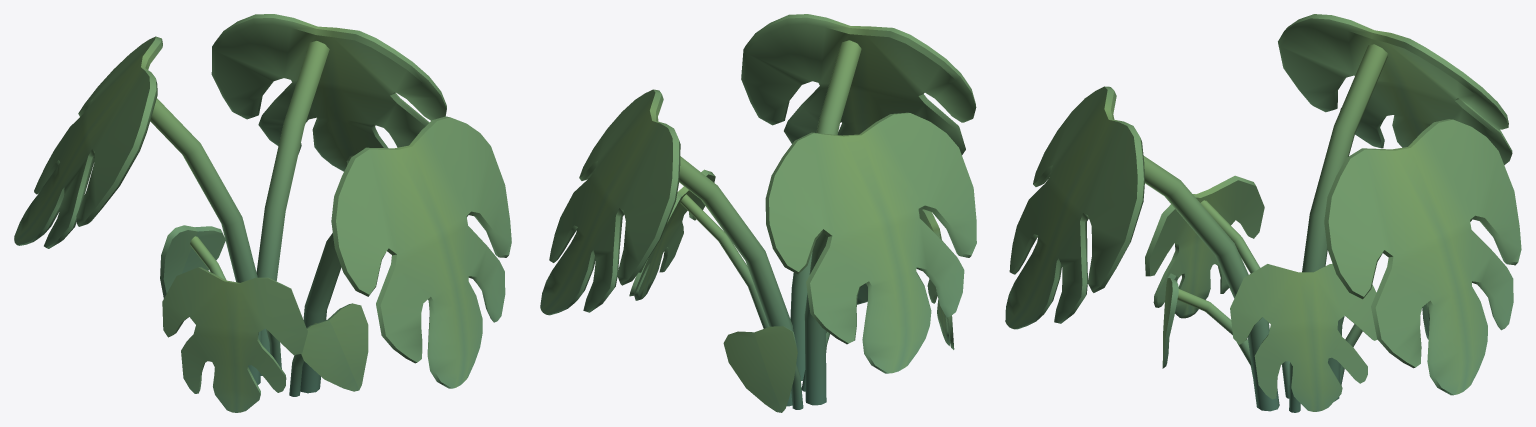
The model's file is monstera-plant.glb.
The picture shows the model from 3 angles, left to right: view 1: azimuth 30°, elevation 25°; view 2: azimuth 150°, elevation 25°; view 3: azimuth 270°, elevation 25°; orthographic projection. The views are drawn at different scales.
Visible parts, largest first — view 1: monstera_plant_medium; view 2: monstera_plant_medium; view 3: monstera_plant_medium.
Boxes of the visible parts, <box> form: monstera_plant_medium: <box>14,14,511,412</box>; monstera_plant_medium: <box>540,14,976,412</box>; monstera_plant_medium: <box>1005,14,1521,412</box>.
Bounding box in the file's own units: 2.02 × 1.56 × 2.22.
